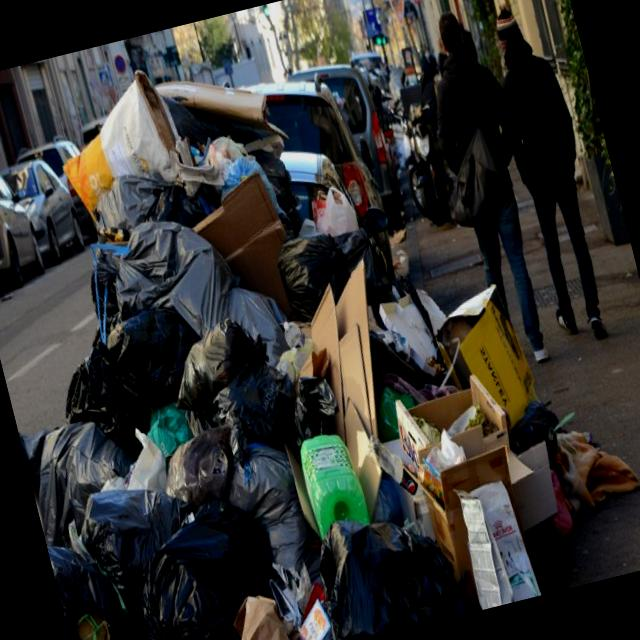garbage: (0, 117, 480, 640)
